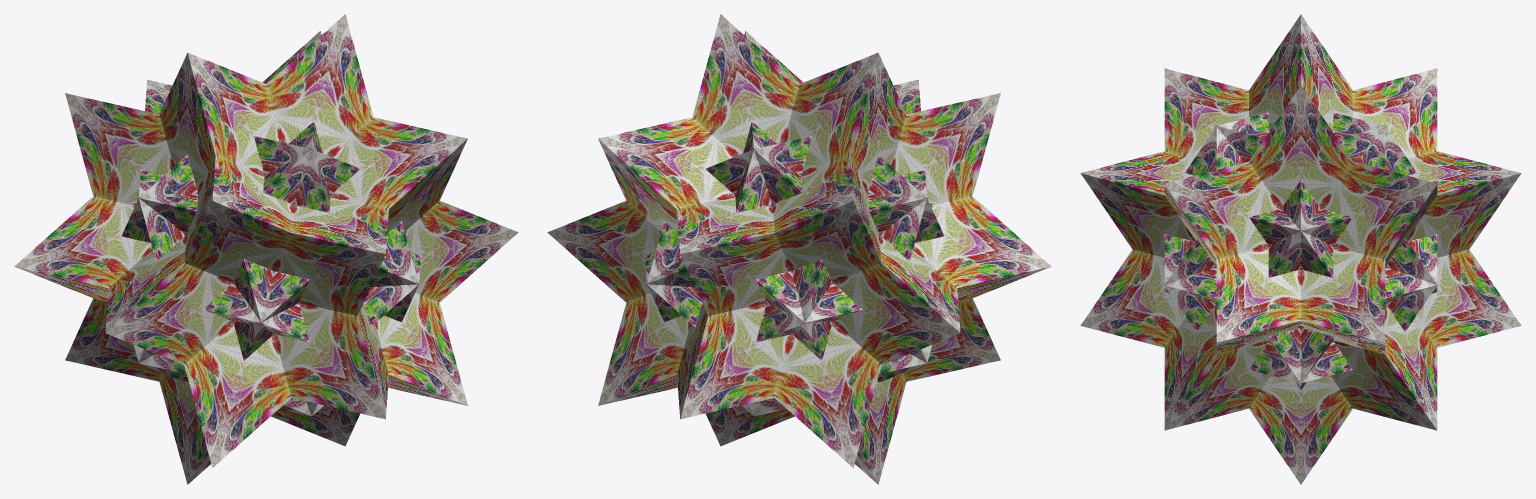
The model's file is GreatRhombicTriacontahedron5.obj.
3 renders of one model, left to right at view 1: azimuth 30°, elevation 25°; view 2: azimuth 150°, elevation 25°; view 3: azimuth 270°, elevation 25°, orthographic. The views are drawn at different scales.
Bounding box in the file's own units: 1.12 × 1.12 × 1.12.
1 material, 1 textured.
